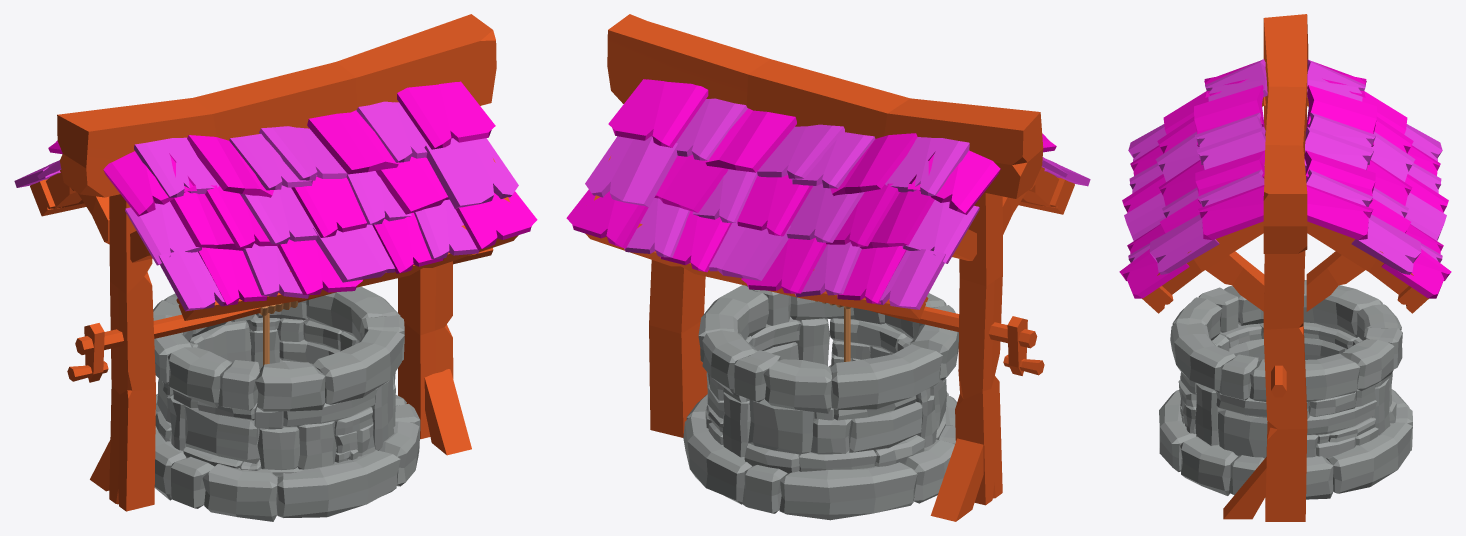
File: poço_terminado.fbx
The picture shows the model from 3 angles, left to right: view 1: azimuth 30°, elevation 25°; view 2: azimuth 150°, elevation 25°; view 3: azimuth 270°, elevation 25°; orthographic projection. The views are drawn at different scales.
Visible parts, largest first — view 1: Cube.023, Cube.051, Cube.004, Cube.044, Cube.009, Cube.001, Cube.099, Cube.054, Cube.098, Cube.045, Cube.039, Cube.049 (+24 smaller); view 2: Cube.023, Cube.051, Cube.004, Cube.044, Cube.009, Cube.001, Cube.099, Cube.054, Cube.098, Cube.045, Cube.049, Cube.039 (+24 smaller); view 3: Cube.004, Cube.051, Cube.001, Cube.023, Cube.044, Cube.099, Cube.054, Cube.055, Cube.021, Cube.022, Cube.094, Cube.098 (+20 smaller).
Part boxes in pixels (x1,y1,x2,y2): Cube.023: [57, 14, 496, 197]; Cube.051: [155, 314, 395, 478]; Cube.004: [153, 286, 404, 411]; Cube.044: [154, 394, 420, 521]; Cube.009: [109, 194, 155, 511]; Cube.001: [398, 261, 453, 439]; Cube.099: [397, 81, 495, 149]; Cube.054: [424, 138, 518, 208]; Cube.098: [307, 110, 398, 174]; Cube.045: [134, 137, 219, 197]; Cube.039: [313, 224, 395, 282]; Cube.049: [291, 176, 366, 237]; Cube.023: [607, 14, 1043, 198]; Cube.051: [705, 317, 946, 473]; Cube.004: [698, 285, 958, 413]; Cube.044: [683, 365, 957, 520]; Cube.009: [955, 192, 1002, 505]; Cube.001: [649, 260, 705, 437]; Cube.099: [608, 79, 708, 147]; Cube.054: [585, 136, 679, 207]; Cube.098: [705, 108, 796, 172]; Cube.045: [885, 137, 969, 195]; Cube.049: [737, 175, 812, 236]; Cube.039: [709, 223, 790, 280]; Cube.004: [1170, 280, 1402, 402]; Cube.051: [1178, 322, 1396, 458]; Cube.001: [1263, 251, 1307, 521]; Cube.023: [1263, 14, 1308, 253]; Cube.044: [1159, 389, 1412, 499]; Cube.099: [1197, 185, 1373, 240]; Cube.054: [1149, 214, 1421, 274]; Cube.055: [1194, 85, 1376, 146]; Cube.021: [1157, 97, 1413, 294]; Cube.022: [1205, 171, 1365, 311]; Cube.094: [1196, 126, 1374, 170]; Cube.098: [1195, 150, 1375, 203].
Bounding box in the file's own units: 407 × 367 × 316.
